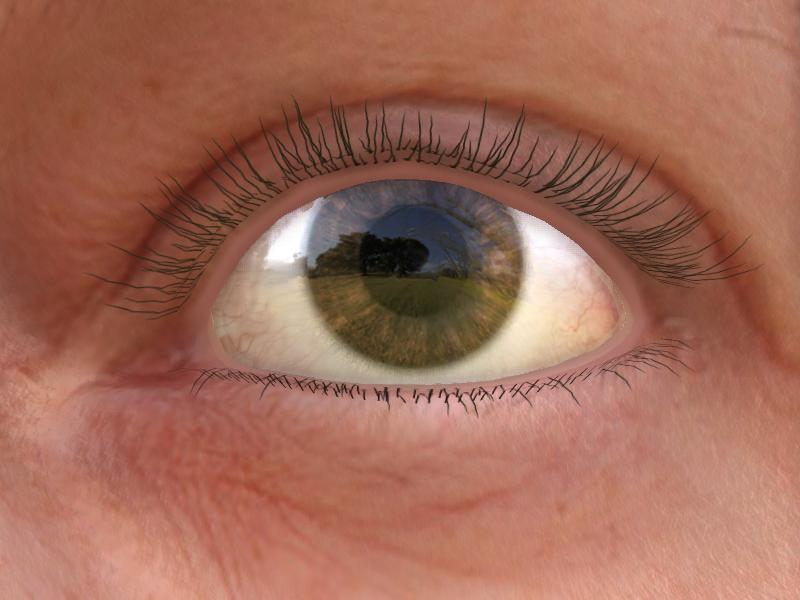eye: (303, 182, 517, 369)
